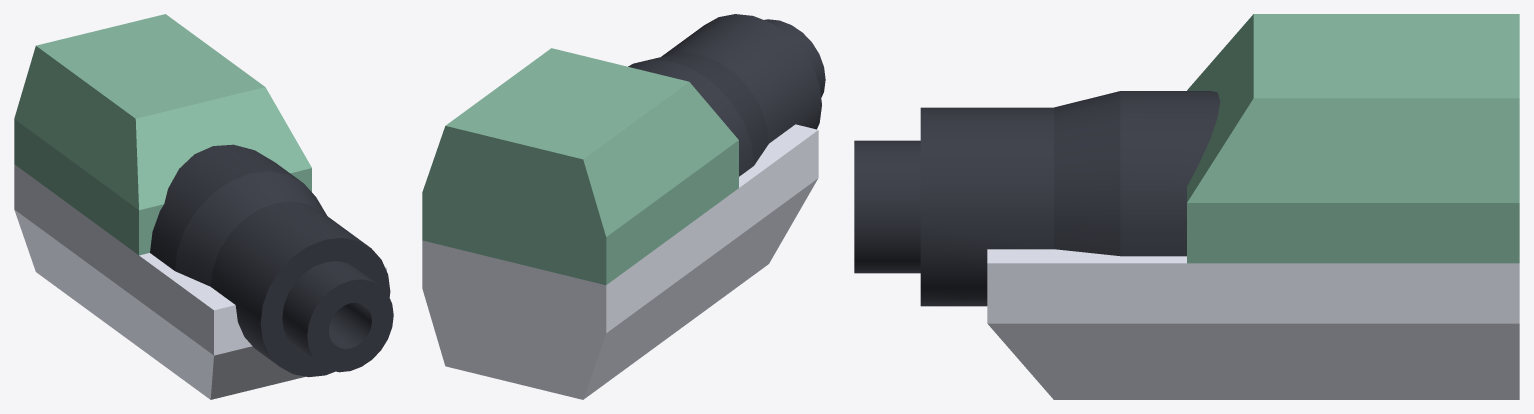
File: Blaster.fbx
3 renders of one model, left to right at view 1: azimuth 30°, elevation 25°; view 2: azimuth 150°, elevation 25°; view 3: azimuth 270°, elevation 25°, orthographic. The views are drawn at different scales.
Visible parts, largest first — view 1: mediumBlaster_barrelLarge; view 2: mediumBlaster_barrelLarge; view 3: mediumBlaster_barrelLarge.
Part boxes in pixels (<box>): mediumBlaster_barrelLarge: <box>14,14,393,399</box>; mediumBlaster_barrelLarge: <box>422,14,825,399</box>; mediumBlaster_barrelLarge: <box>854,14,1519,399</box>.
Bounding box in the file's own units: 4 × 5 × 10.
